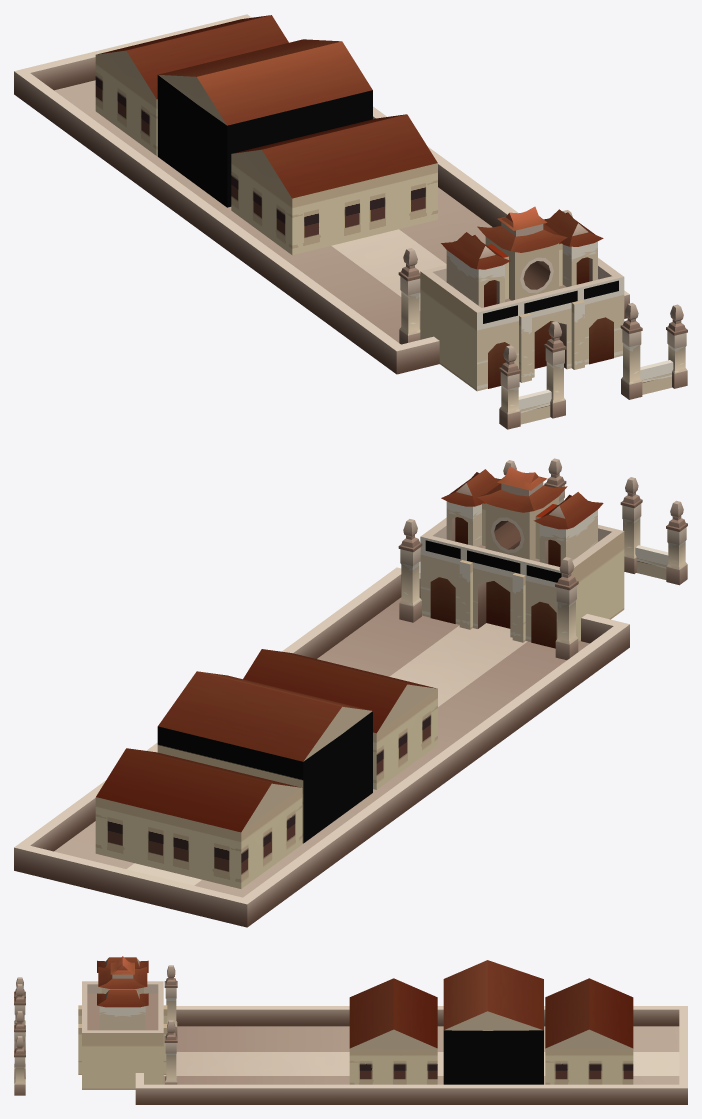
The model's file is SM_Building_QuanThanh_Pagoda.fbx.
3 views of the same model, one above another, from view 1: azimuth 30°, elevation 25°; view 2: azimuth 150°, elevation 25°; view 3: azimuth 270°, elevation 25° (orthographic). The views are drawn at different scales.
Parts seen in each view (by area): view 1: SM_Building_QuanThanh_Pagoda; view 2: SM_Building_QuanThanh_Pagoda; view 3: SM_Building_QuanThanh_Pagoda.
Boxes of the visible parts, bbox=[...] form: SM_Building_QuanThanh_Pagoda: bbox=[14, 14, 687, 429]; SM_Building_QuanThanh_Pagoda: bbox=[14, 458, 687, 927]; SM_Building_QuanThanh_Pagoda: bbox=[14, 956, 687, 1104].
Size of the model in its own units: 12.33 by 7.27 by 42.78.
